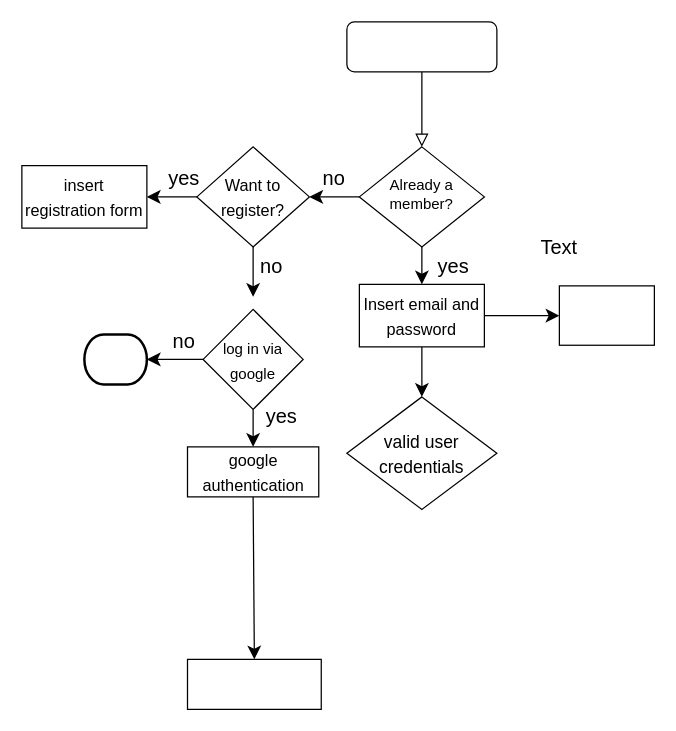
Some shapes in this 676 by 731 pixel diagram are drawn without their labels. The centre of each missing label's shape, as x and y in pixels:
Exit: the point at 115,358
login failed: the point at 606,315
START: the point at 421,46
user logged in succesfully: the point at 253,683
